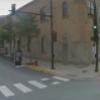crosswalks: (1, 75, 74, 98)
